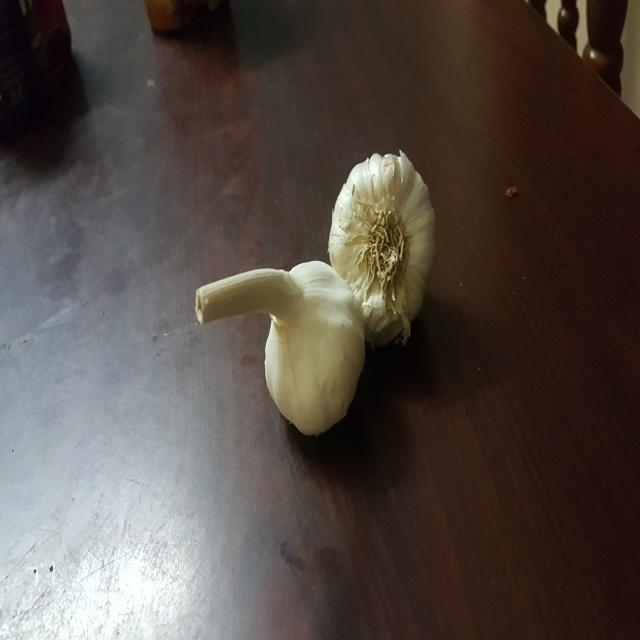garlic: (188, 247, 381, 441), (320, 149, 470, 351)
